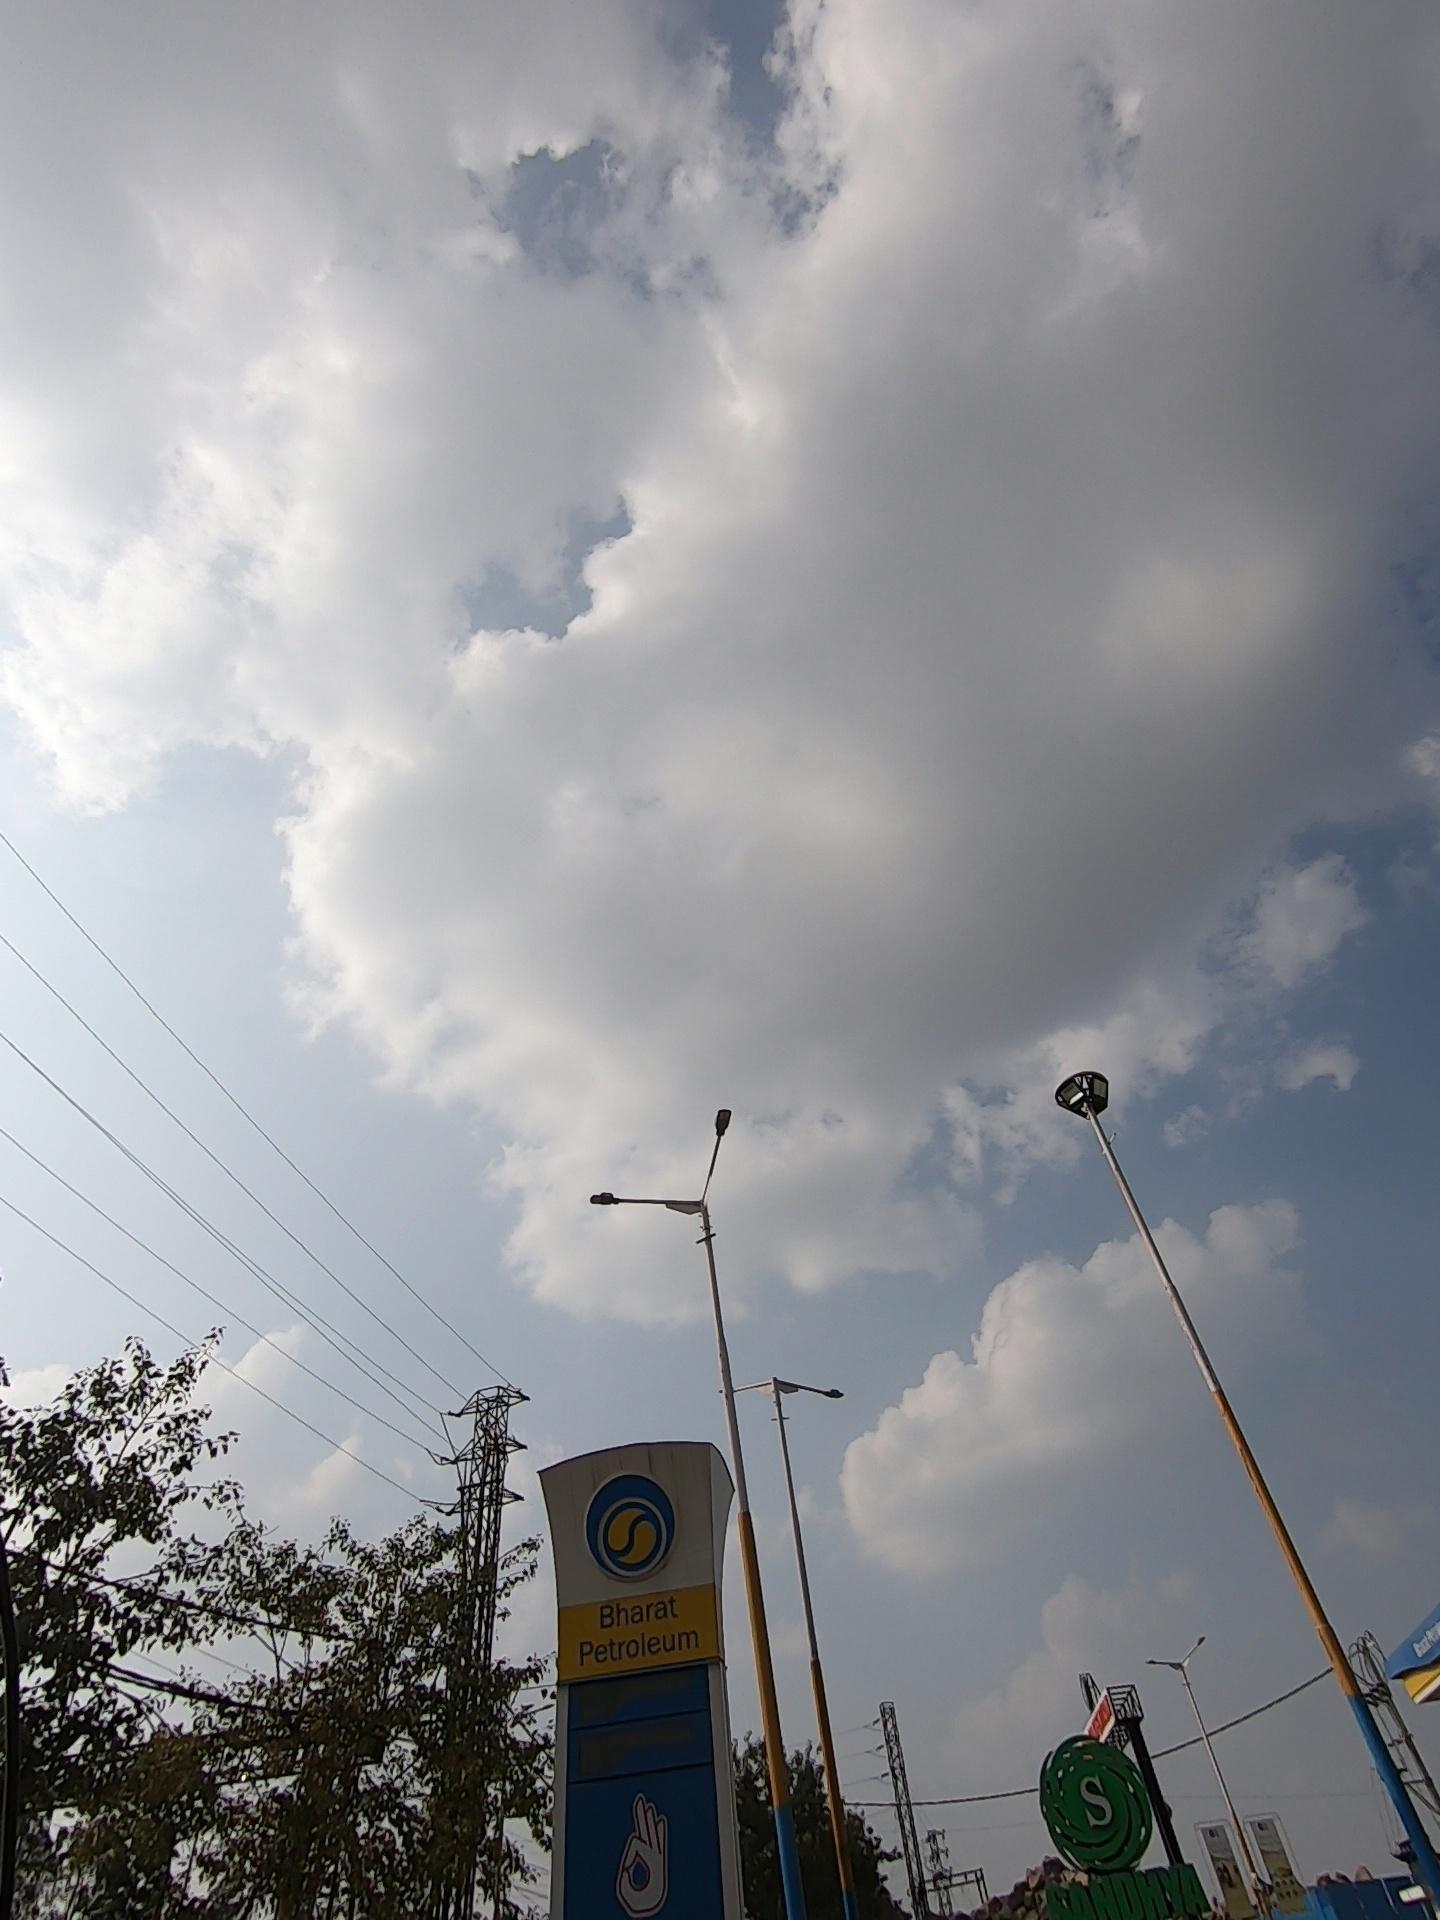off: (563, 1090, 805, 1314), (1044, 1040, 1175, 1178), (731, 1350, 909, 1439)
